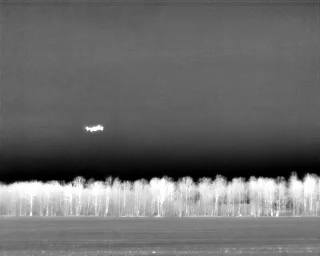DRONE: (81, 120, 108, 138)
